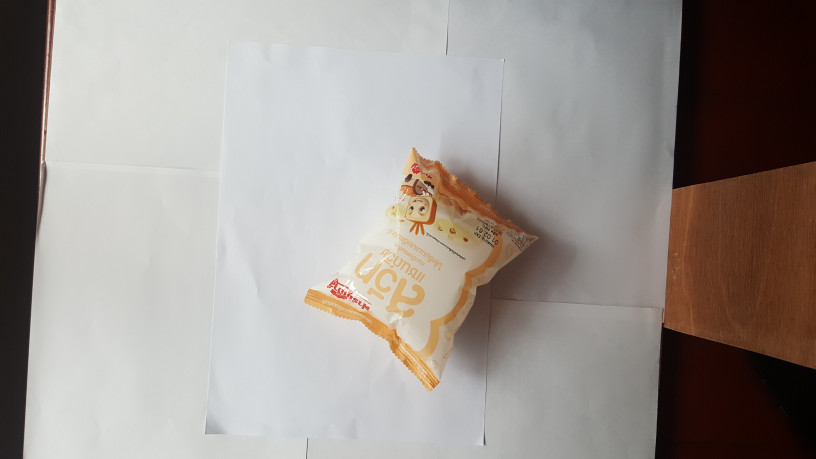farmhouse-sweetsandwich-almond: (295, 143, 542, 393)
